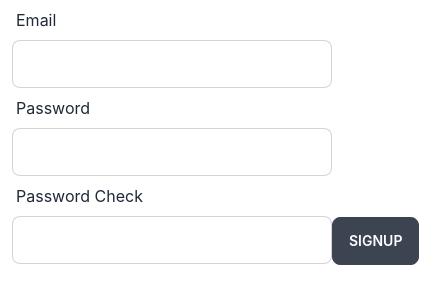
Test: Signup › email field should show error message if › clicked and blank
The image size is (436, 306).
Click the field labelled "Email". click: [172, 64]
box: [12,40,332,88]
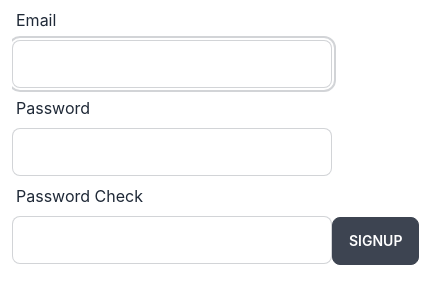
Click the field labelled "Password". click: [172, 152]
box: [12,128,332,176]
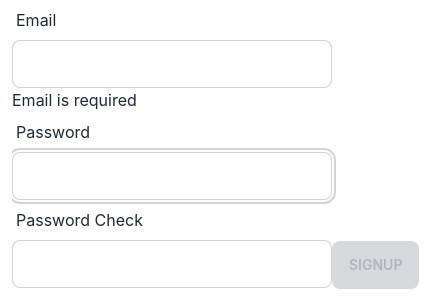
expect the text "Email is required" is shown: met, box [12,90,137,110]
